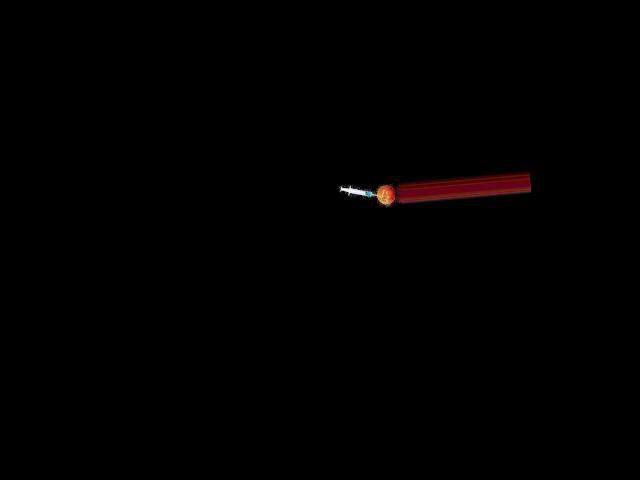tomato: (376, 184, 395, 205)
